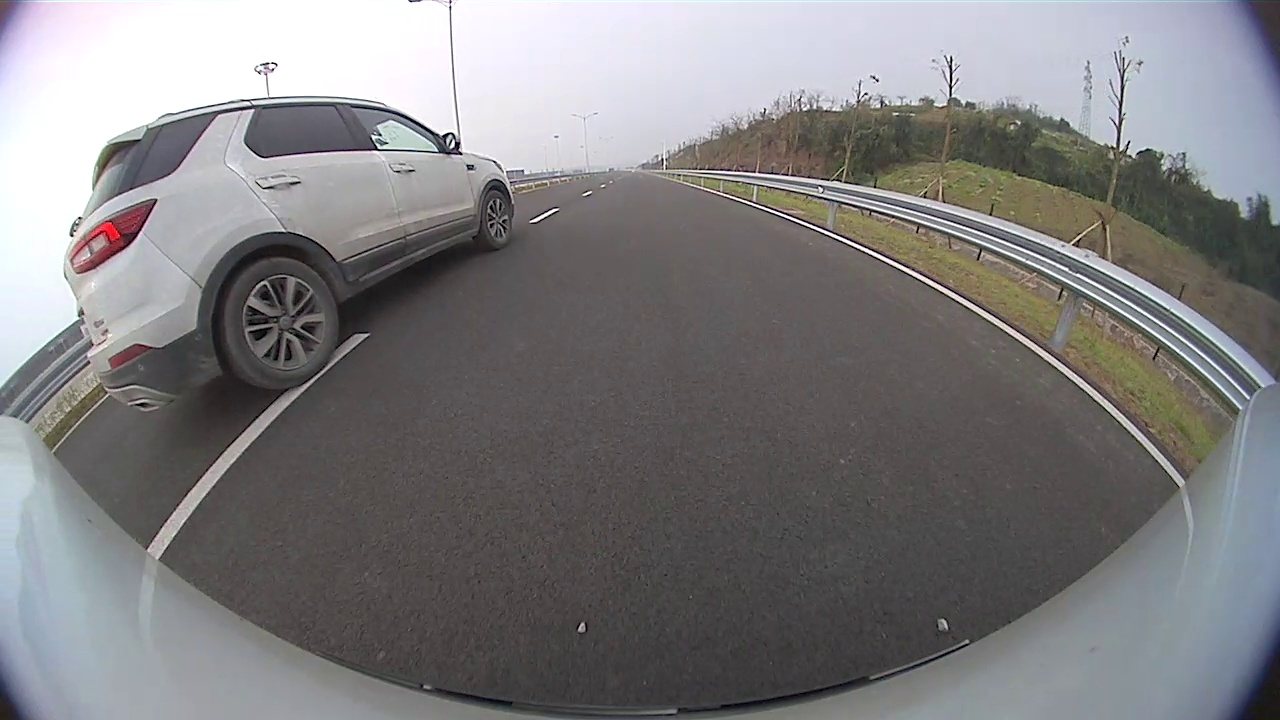car: (62, 93, 516, 414)
front: (478, 184, 518, 247)
rear: (219, 254, 342, 394)
